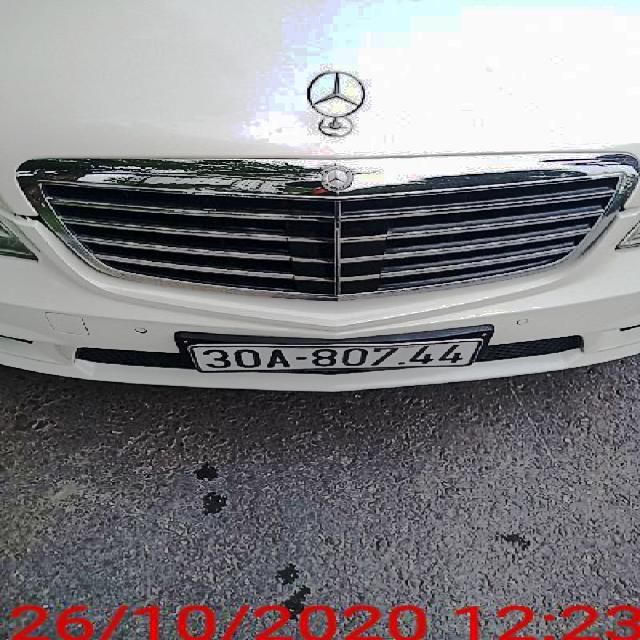license_plate: (188, 342, 481, 373)
